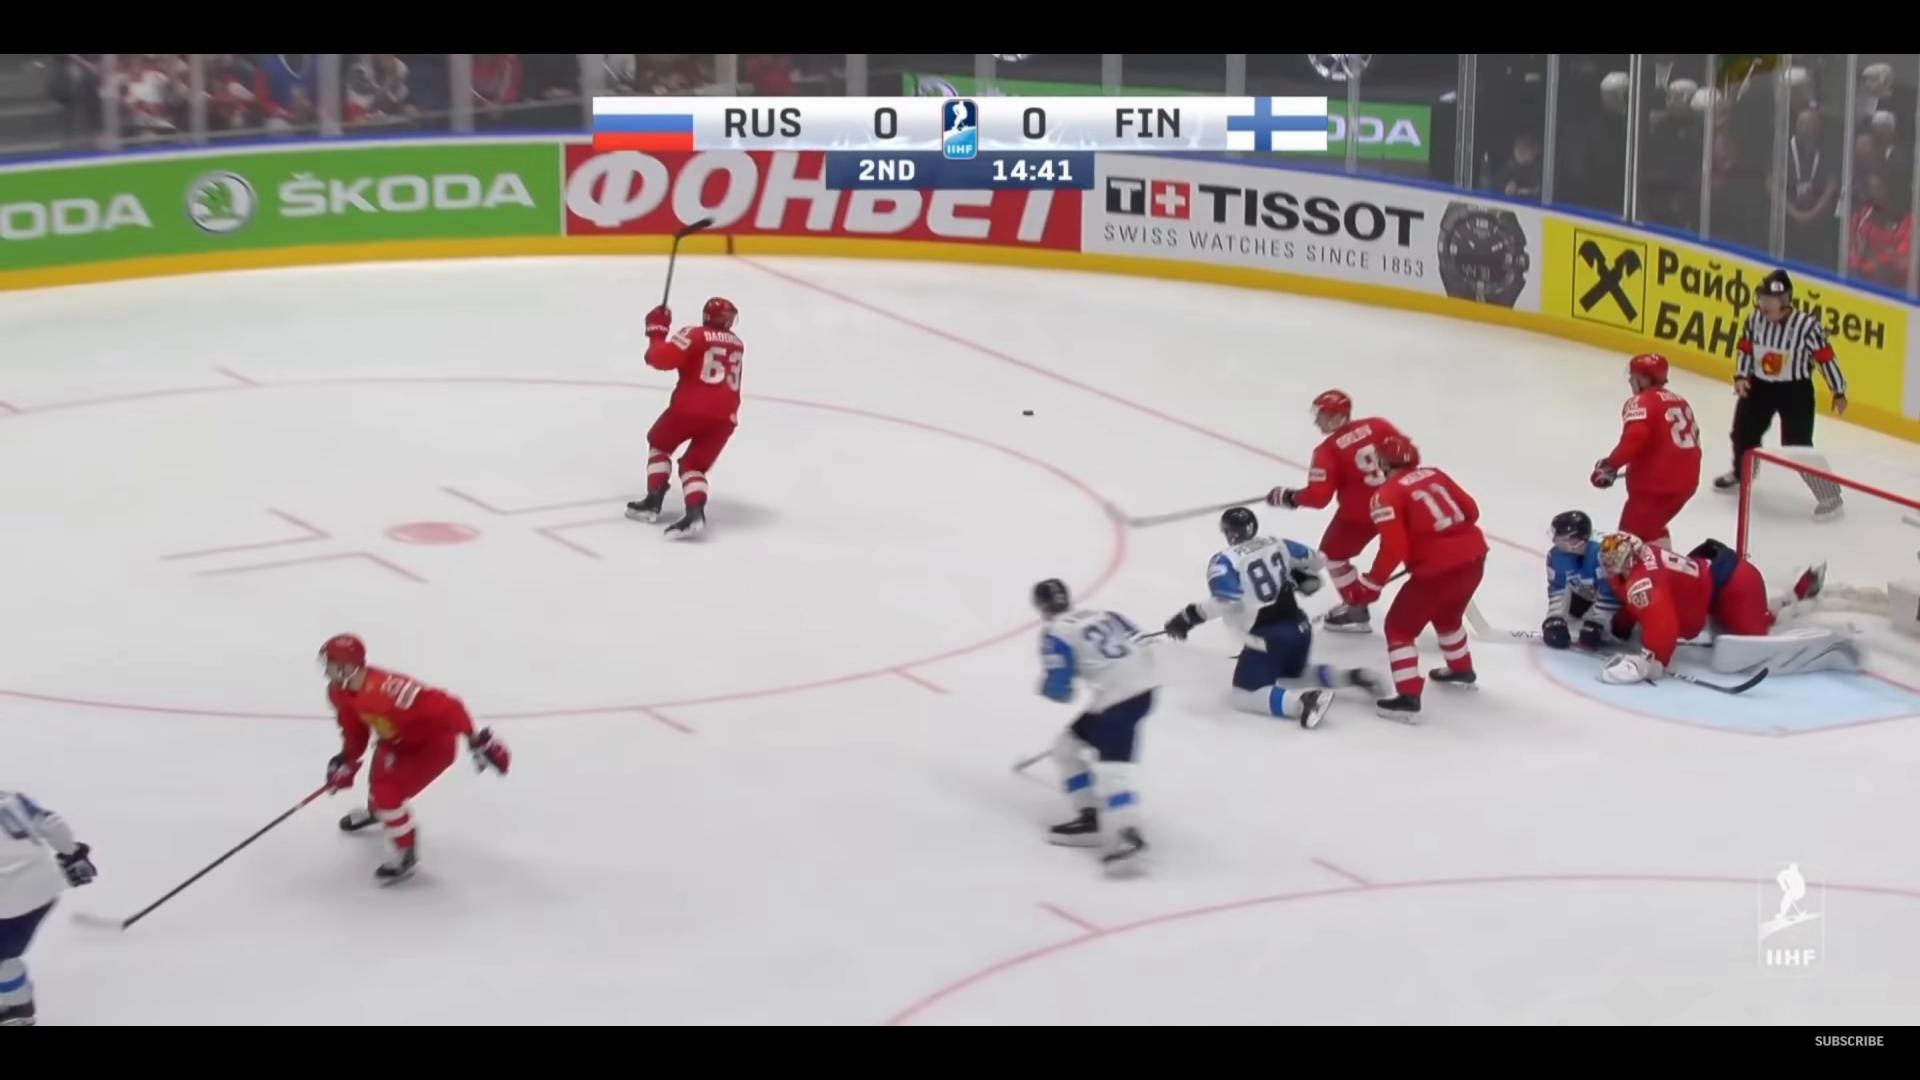puck: (1022, 409, 1034, 415)
